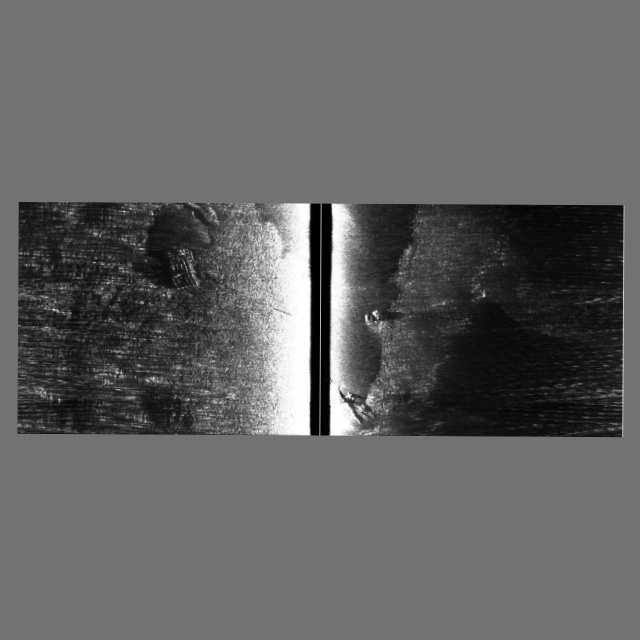Shipwreck: (164, 203, 379, 424)
